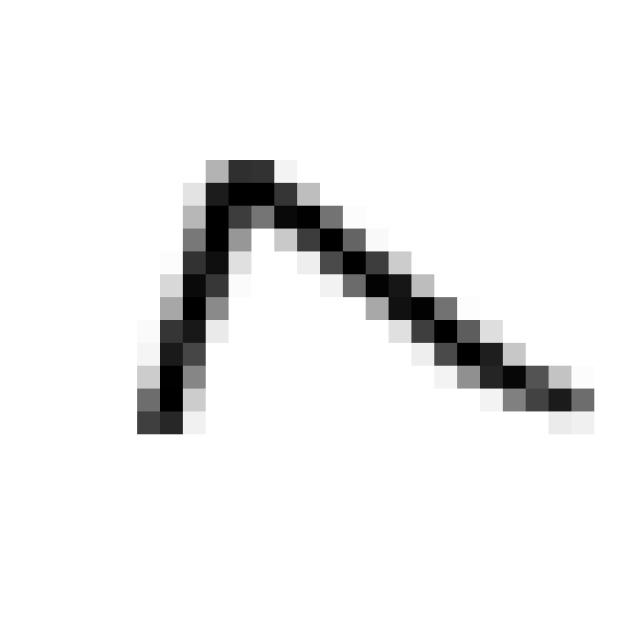8 -eight-: (112, 135, 613, 445)
